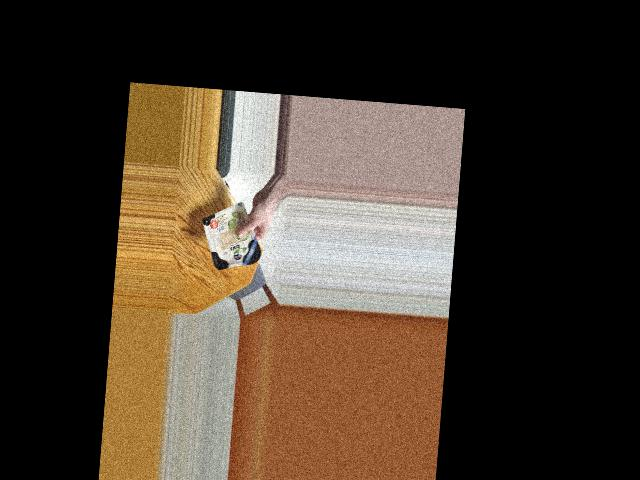cheese: (201, 210, 261, 275)
